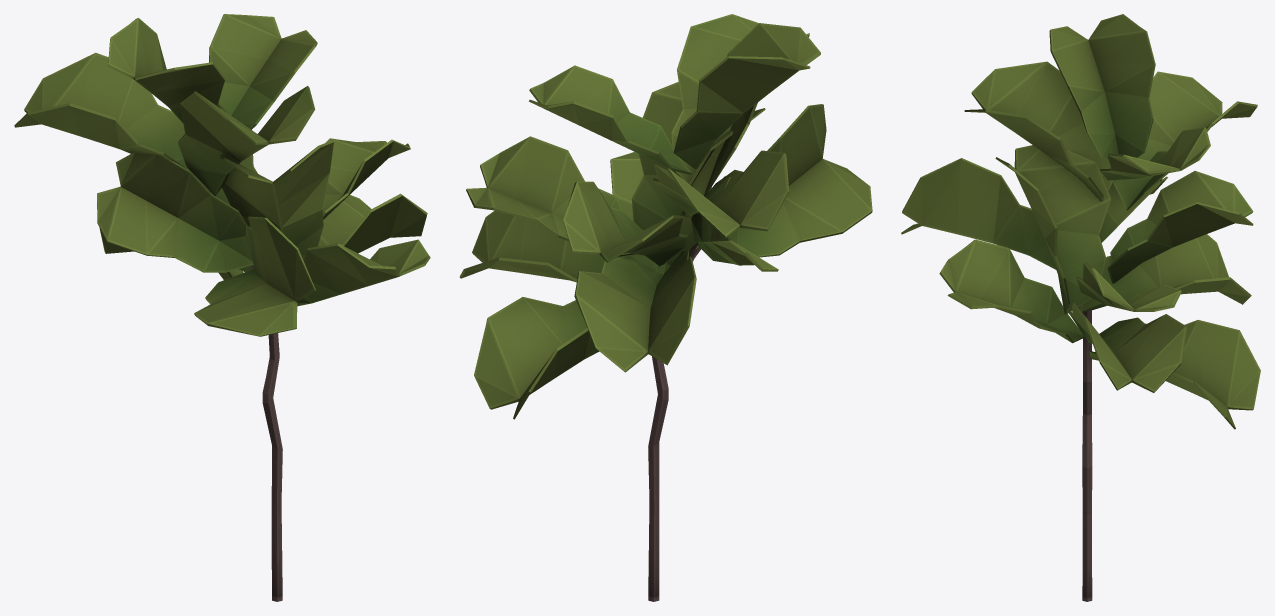
Rendered from Fiddleleaf.fbx.
3 views of the same model, side by side, from view 1: azimuth 30°, elevation 25°; view 2: azimuth 150°, elevation 25°; view 3: azimuth 270°, elevation 25° (orthographic). The views are drawn at different scales.
Parts seen in each view (by area): view 1: FiddleleafFigPottedPlant; view 2: FiddleleafFigPottedPlant; view 3: FiddleleafFigPottedPlant.
Part boxes in pixels (bbox=[...]): FiddleleafFigPottedPlant: bbox=[14, 14, 430, 601]; FiddleleafFigPottedPlant: bbox=[459, 14, 872, 601]; FiddleleafFigPottedPlant: bbox=[901, 14, 1260, 601].
Size of the model in its own units: 430 by 680 by 425.
Materials: 1 (1 with a texture image).
